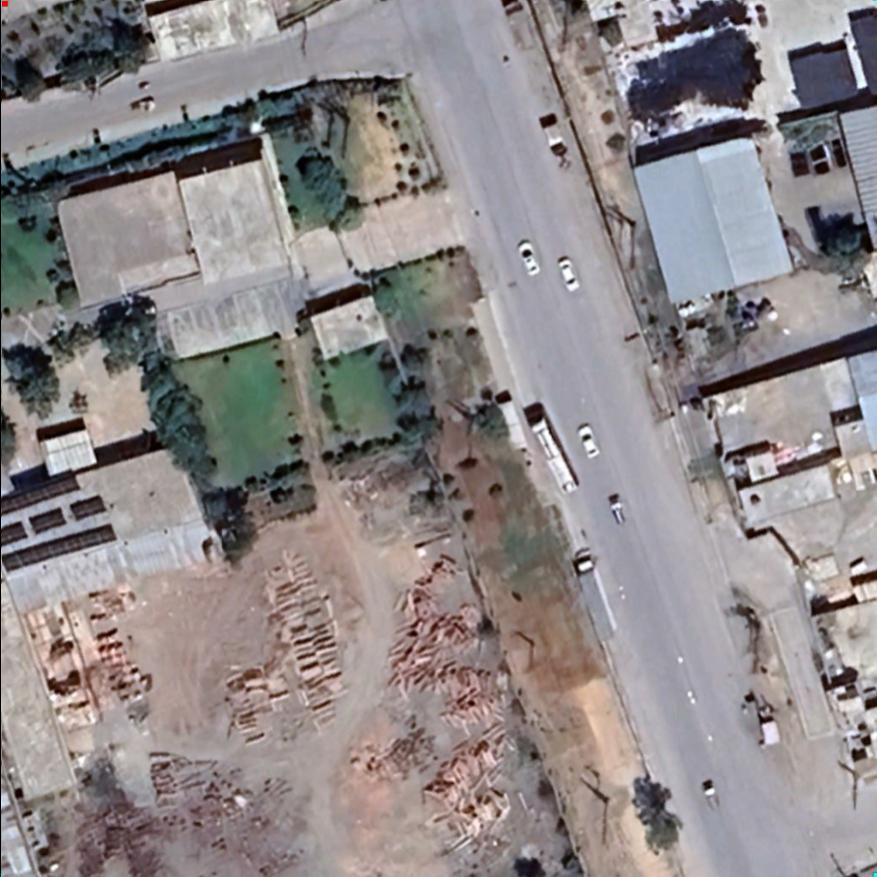Solarpanel: (1, 522, 118, 574), (0, 475, 80, 516), (28, 506, 66, 535), (69, 493, 106, 522), (0, 519, 28, 549)
